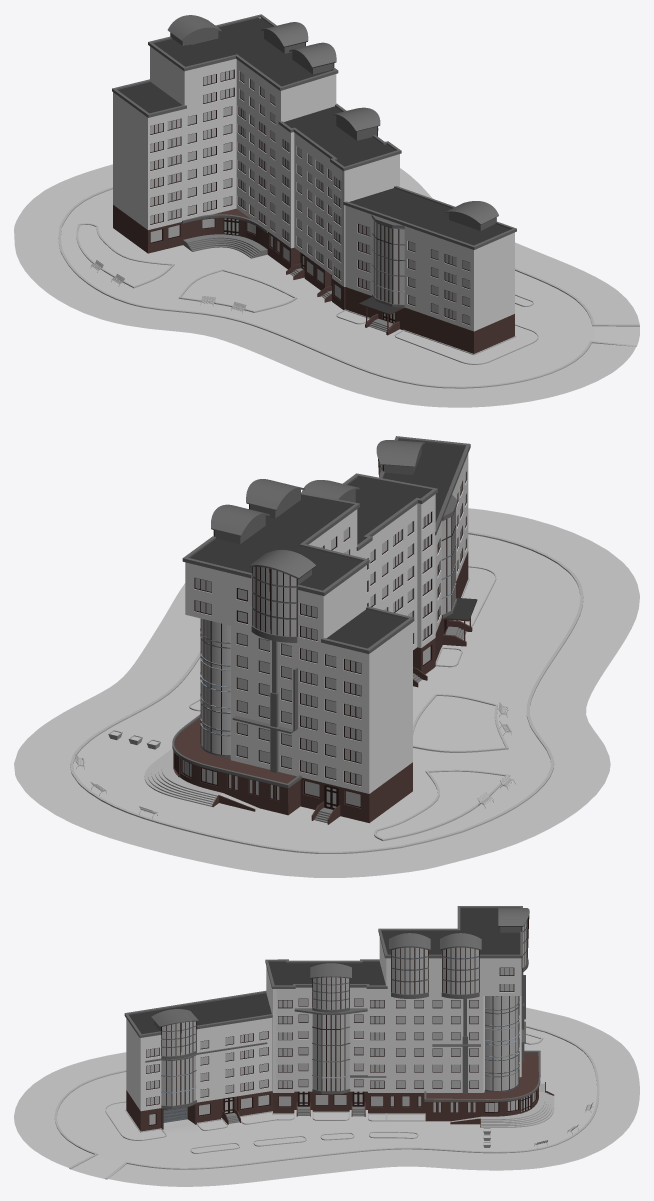
File: building.fbx
The picture shows the model from 3 angles, top to bottom: view 1: azimuth 30°, elevation 25°; view 2: azimuth 150°, elevation 25°; view 3: azimuth 270°, elevation 25°; orthographic projection. The views are drawn at different scales.
Visible parts, largest first — view 1: building, terrain, grass_terrain, polySurface263, flowerbed_1, flowerbed_2, multiple_flowerbed, stairs_2, stairs; view 2: building, grass_terrain, terrain, polySurface263, flowerbed_1, flowerbed_2, main_stairs, multiple_flowerbed, stairs; view 3: building, terrain, grass_terrain, polySurface263, multiple_flowerbed, main_stairs, stairs.
Part boxes in pixels (x1,y1,x2,y2): building: [112, 14, 516, 331]; terrain: [58, 187, 636, 388]; grass_terrain: [14, 164, 639, 407]; polySurface263: [113, 205, 514, 353]; flowerbed_1: [178, 269, 297, 312]; flowerbed_2: [76, 223, 174, 288]; multiple_flowerbed: [336, 294, 538, 364]; stairs_2: [183, 234, 267, 258]; stairs: [286, 263, 399, 335]; building: [182, 436, 470, 793]; grass_terrain: [14, 508, 639, 877]; terrain: [70, 531, 583, 853]; polySurface263: [172, 551, 477, 823]; flowerbed_1: [413, 694, 508, 752]; flowerbed_2: [374, 769, 510, 841]; main_stairs: [144, 748, 259, 811]; multiple_flowerbed: [189, 566, 496, 711]; stairs: [311, 620, 472, 824]; building: [124, 906, 529, 1111]; terrain: [54, 1025, 599, 1179]; grass_terrain: [14, 1007, 639, 1186]; polySurface263: [126, 1050, 554, 1131]; multiple_flowerbed: [105, 1101, 425, 1153]; main_stairs: [450, 1083, 554, 1127]; stairs: [222, 1102, 365, 1124].
Bounding box in the file's own units: 46.94 × 20.25 × 65.93.
